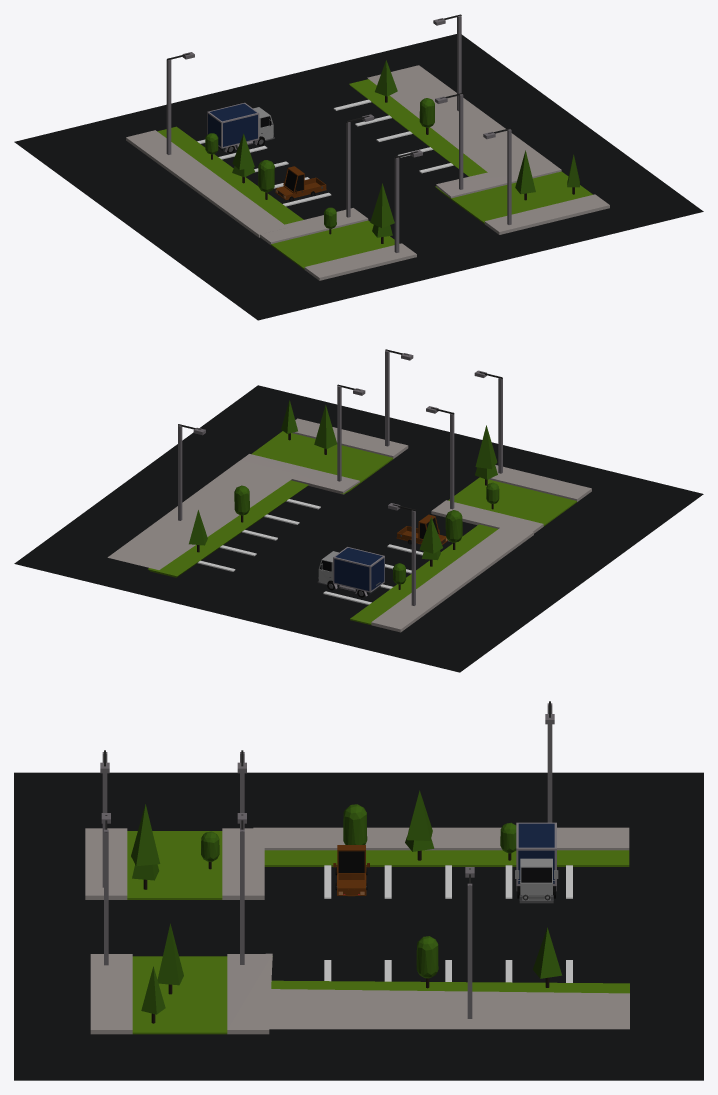
File: ParkingLot.obj
3 views of the same model, one above another, from view 1: azimuth 30°, elevation 25°; view 2: azimuth 150°, elevation 25°; view 3: azimuth 270°, elevation 25° (orthographic). The views are drawn at different scales.
Visible parts, largest first — view 1: Plane_Plane.008, Cube.905_Cube.3610, Cube.030_Cube.042, Cube.916_Cube.3629, CarColored.000_Cube.3470, Cube.024_Cube.041, Cone.005_Cone.031, Cube.003_Cube.010, Cube.041_Cube.045, Cone.003_Cone.029, Icosphere.164_Icosphere.194, Cube.000_Cube.007; view 2: Plane_Plane.008, Cube.905_Cube.3610, Cube.030_Cube.042, Cube.916_Cube.3629, Cube.024_Cube.041, CarColored.000_Cube.3470, Cone.003_Cone.029, Cone.005_Cone.031, Icosphere.164_Icosphere.194; view 3: Plane_Plane.008, Cube.905_Cube.3610, Cube.030_Cube.042, Cube.916_Cube.3629, CarColored.000_Cube.3470, Cube.000_Cube.007, Cone.005_Cone.031, Cone.003_Cone.029, Icosphere.164_Icosphere.194, Icosphere.163_Icosphere.193, Cube.024_Cube.041, Cone.001_Cone.027 (+6 smaller).
Boxes of the visible parts, <box> form: Plane_Plane.008: <box>14,34,703,320</box>; Cube.905_Cube.3610: <box>126,65,609,237</box>; Cube.030_Cube.042: <box>260,208,416,280</box>; Cube.916_Cube.3629: <box>207,102,274,153</box>; CarColored.000_Cube.3470: <box>275,166,326,201</box>; Cube.024_Cube.041: <box>333,99,453,173</box>; Cone.005_Cone.031: <box>370,183,394,227</box>; Cube.003_Cube.010: <box>166,59,171,154</box>; Cube.041_Cube.045: <box>394,157,399,252</box>; Cone.003_Cone.029: <box>515,150,535,194</box>; Icosphere.164_Icosphere.194: <box>258,160,274,192</box>; Cube.000_Cube.007: <box>197,139,331,206</box>; Plane_Plane.008: <box>14,385,703,672</box>; Cube.905_Cube.3610: <box>107,418,533,632</box>; Cube.030_Cube.042: <box>431,465,591,533</box>; Cube.916_Cube.3629: <box>317,547,384,597</box>; Cube.024_Cube.041: <box>197,499,320,571</box>; CarColored.000_Cube.3470: <box>396,514,447,544</box>; Cone.003_Cone.029: <box>314,405,337,449</box>; Cone.005_Cone.031: <box>475,425,497,469</box>; Icosphere.164_Icosphere.194: <box>445,510,462,542</box>; Plane_Plane.008: <box>14,772,703,1080</box>; Cube.905_Cube.3610: <box>90,827,629,1034</box>; Cube.030_Cube.042: <box>85,828,264,899</box>; Cube.916_Cube.3629: <box>515,822,558,903</box>; CarColored.000_Cube.3470: <box>333,845,369,896</box>; Cube.000_Cube.007: <box>324,865,572,898</box>; Cone.005_Cone.031: <box>131,804,160,866</box>; Cone.003_Cone.029: <box>157,923,183,985</box>; Icosphere.164_Icosphere.194: <box>343,804,367,844</box>; Icosphere.163_Icosphere.193: <box>416,936,438,978</box>; Cube.024_Cube.041: <box>324,960,572,982</box>; Cone.001_Cone.027: <box>533,927,562,978</box>.
Size of the model in its own units: 5.23 by 1.13 by 4.96.
